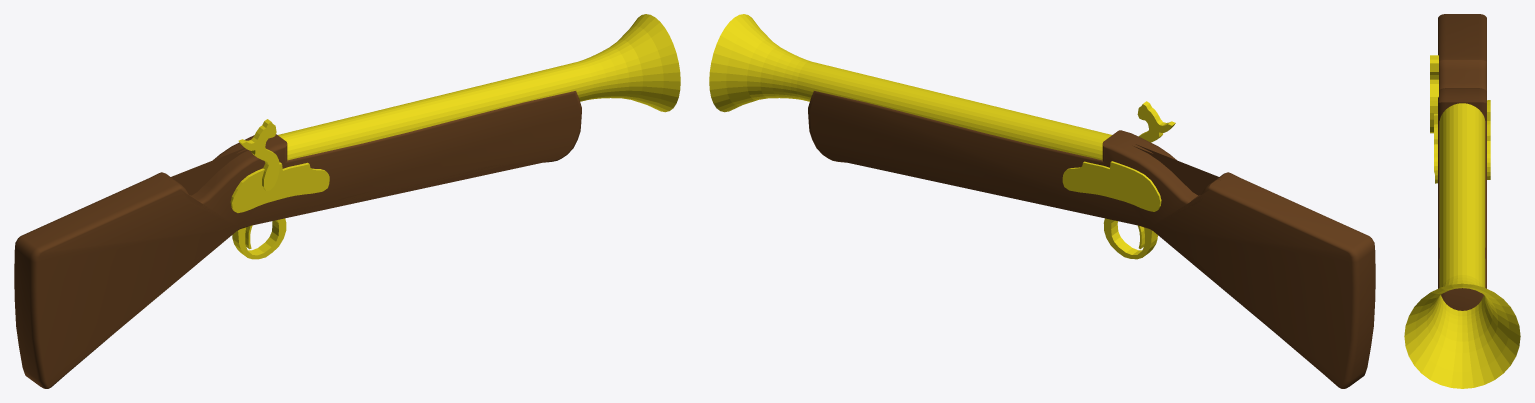
Rendered from Blunderbussy.fbx.
3 renders of one model, left to right at view 1: azimuth 30°, elevation 25°; view 2: azimuth 150°, elevation 25°; view 3: azimuth 270°, elevation 25°, orthographic. The views are drawn at different scales.
Parts seen in each view (by area): view 1: Stock, Barrel, Plane.002, Plane.003, Trigger; view 2: Stock, Barrel, Plane.002, Trigger, Plane.003; view 3: Barrel, Stock, Plane.003, Plane.002.
Part boxes in pixels (<box>): Stock: <box>14,91,581,388</box>; Barrel: <box>278,14,680,160</box>; Plane.002: <box>230,162,329,212</box>; Plane.003: <box>238,119,279,190</box>; Trigger: <box>232,218,286,259</box>; Stock: <box>808,91,1375,388</box>; Barrel: <box>709,14,1111,160</box>; Plane.002: <box>1062,161,1161,211</box>; Trigger: <box>1103,218,1157,259</box>; Plane.003: <box>1137,101,1175,142</box>; Barrel: <box>1404,103,1520,388</box>; Stock: <box>1438,14,1486,310</box>; Plane.003: <box>1430,55,1438,133</box>; Plane.002: <box>1434,100,1490,183</box>.
Size of the model in its own units: 56.11 by 18.47 by 7.72.
